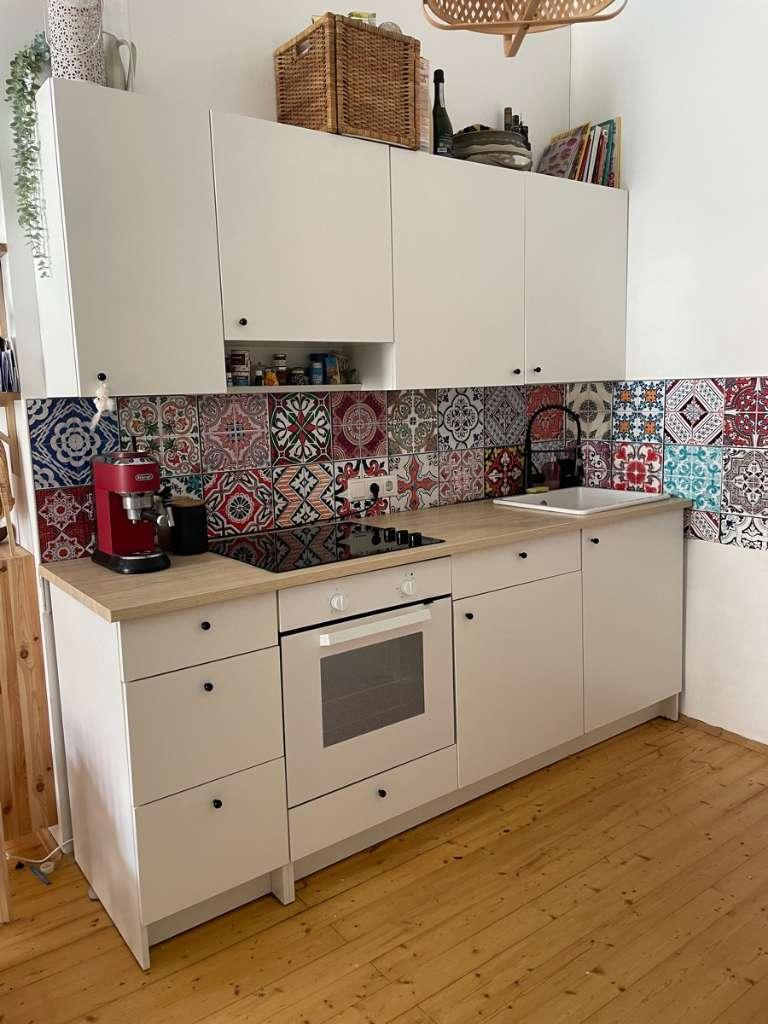cabinet_door: (60, 97, 223, 388), (218, 123, 393, 342), (390, 164, 525, 383), (526, 179, 626, 381), (454, 601, 578, 755), (582, 526, 681, 704), (149, 781, 281, 881), (141, 669, 276, 766), (295, 774, 446, 827), (122, 607, 271, 653), (453, 537, 575, 588), (285, 575, 445, 613)
handle: (315, 606, 436, 649), (462, 607, 478, 627), (375, 785, 391, 802), (198, 618, 213, 635), (94, 369, 110, 384), (211, 796, 225, 813), (515, 548, 530, 563), (587, 532, 602, 547), (202, 680, 215, 696), (532, 363, 544, 378), (513, 363, 523, 380), (237, 316, 250, 329)
